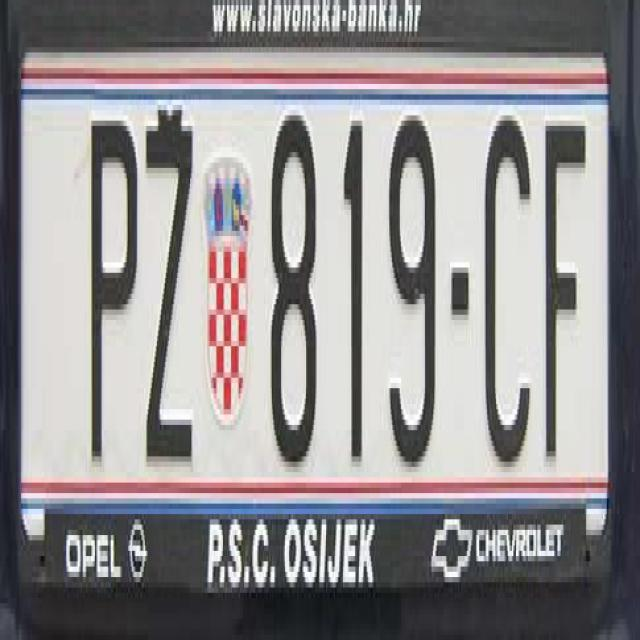Autre: (8, 15, 627, 625)
